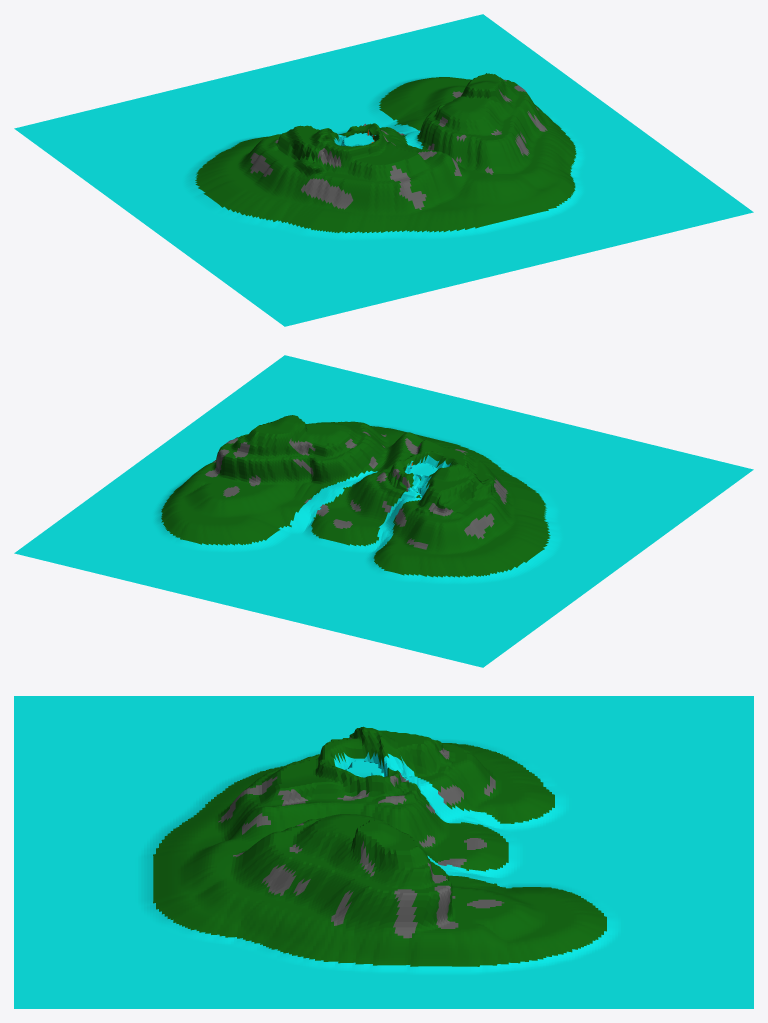
The model's file is WATERYhills 2.fbx.
3 views of the same model, one above another, from view 1: azimuth 30°, elevation 25°; view 2: azimuth 150°, elevation 25°; view 3: azimuth 270°, elevation 25° (orthographic). The views are drawn at different scales.
Parts seen in each view (by area): view 1: Plane; view 2: Plane; view 3: Plane.
Boxes of the visible parts, left/top/right/bottom form: Plane: left=14, top=14, right=753, bottom=326; Plane: left=14, top=355, right=753, bottom=667; Plane: left=14, top=696, right=753, bottom=1008.
Bounding box in the file's own units: 1000 × 132 × 1000.
